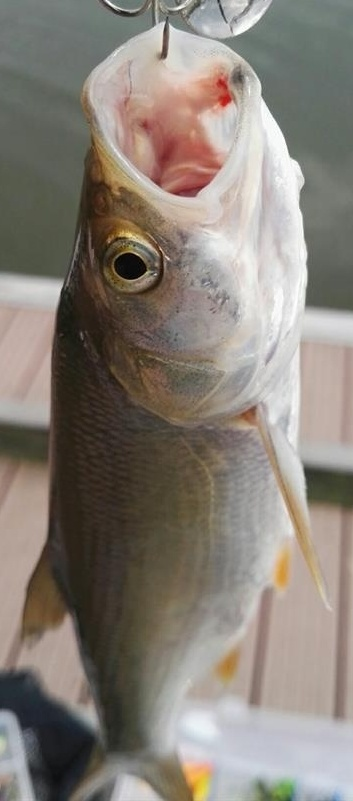Aspius aspius: (20, 20, 333, 801)
